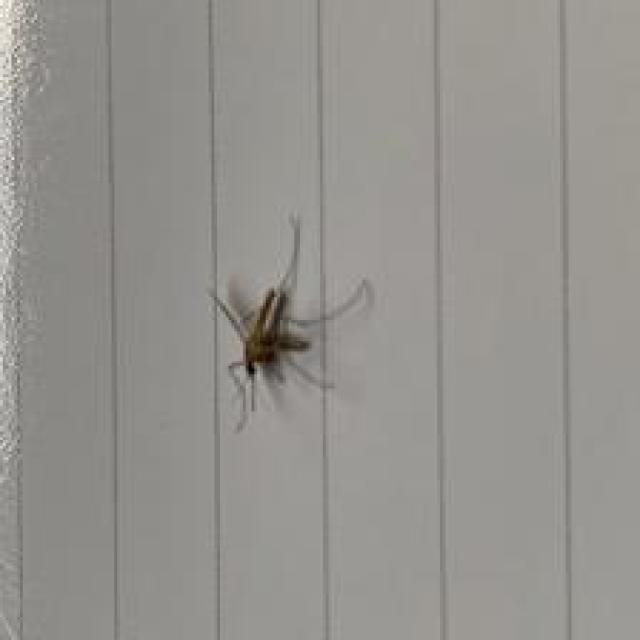Culex: (207, 210, 373, 433)
